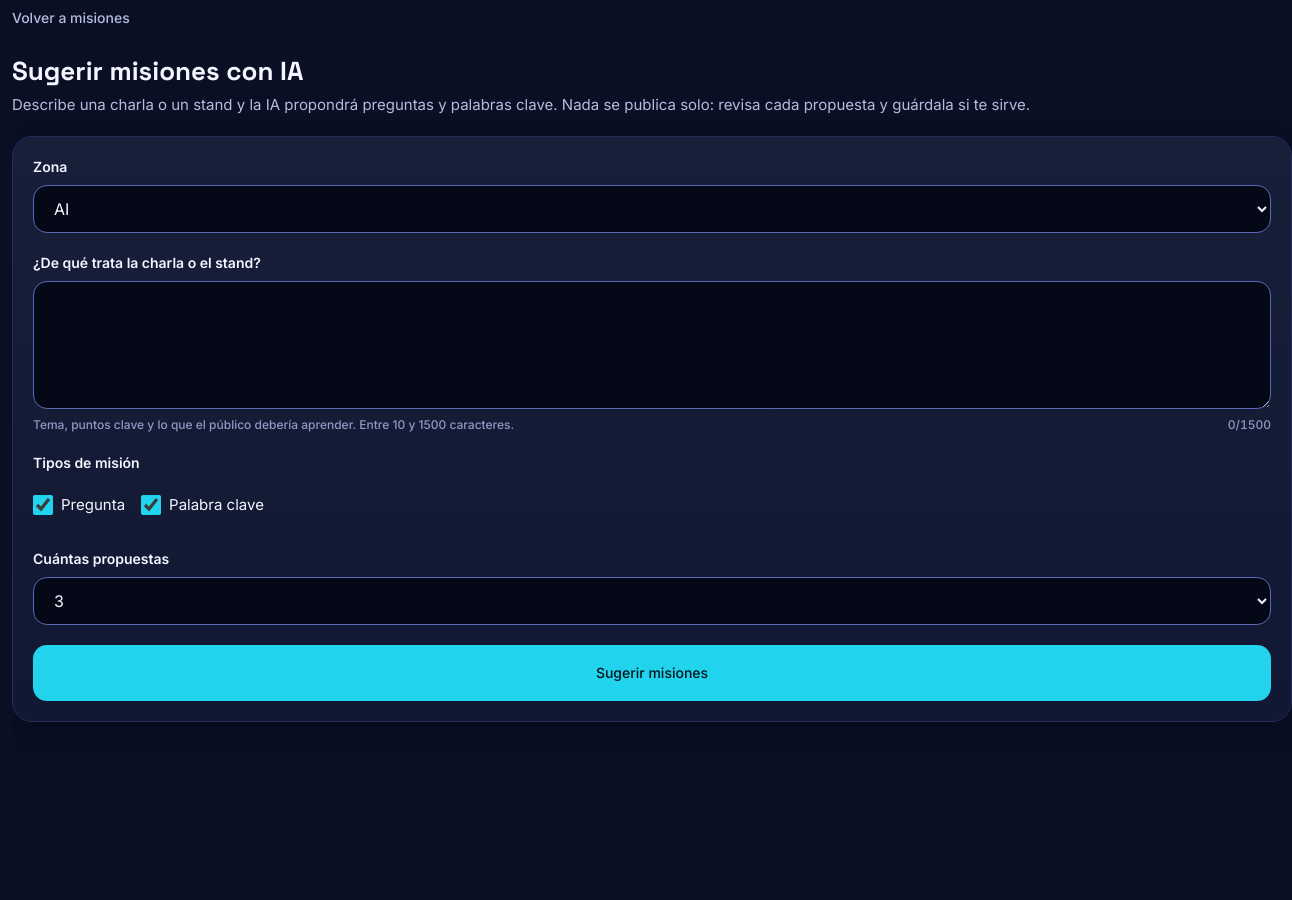
SuggestMissionsView › explains a quota answer
Type "Charla sobre Gemini y agentes" into the text box labelled "¿De qué trata la charla o el stand?".
click(652, 345); type("Charla sobre Gemini y agentes")  # box [33,281,1271,409]
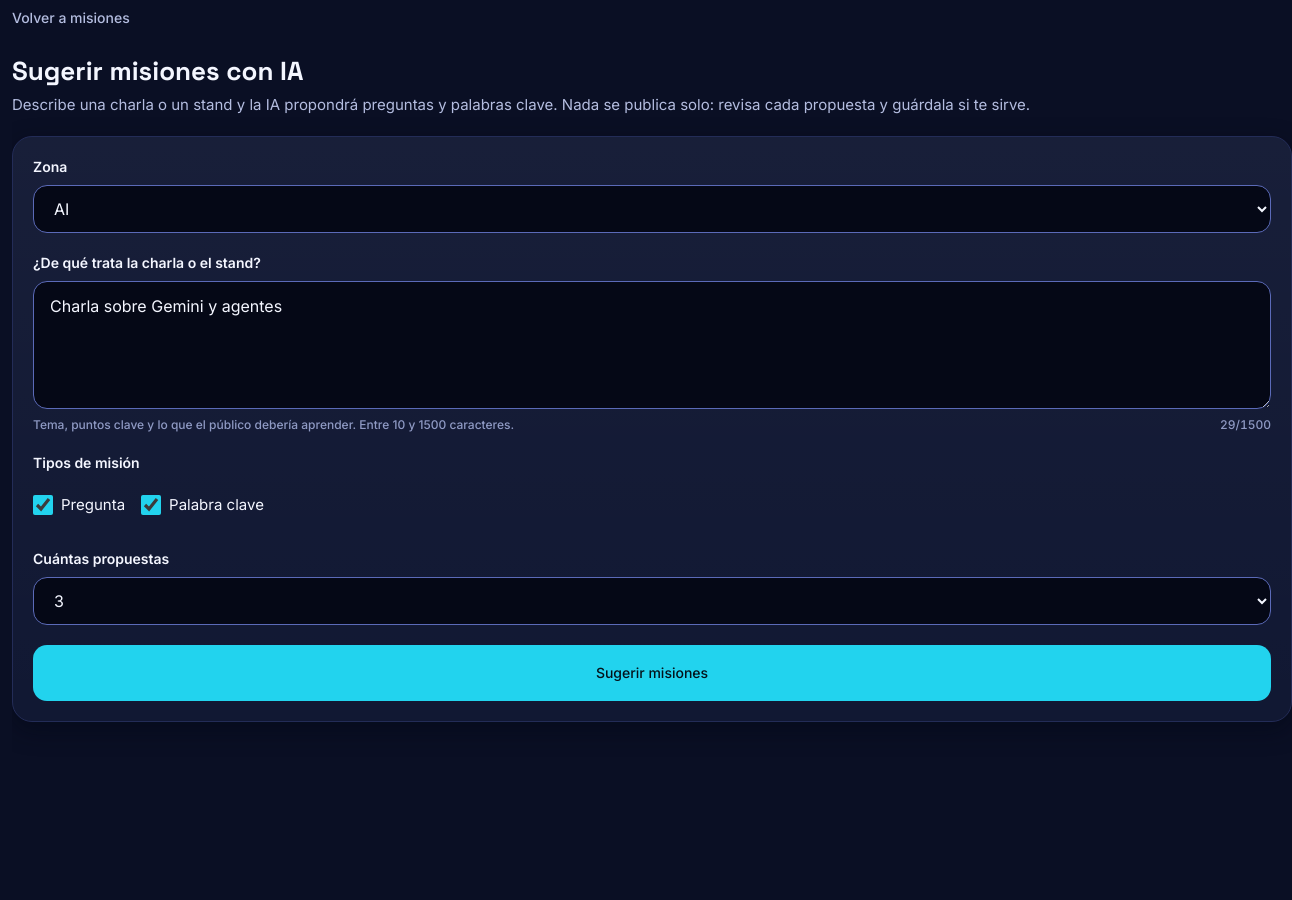
Click the button "Sugerir misiones".
click(652, 673)  # box [33,645,1271,701]
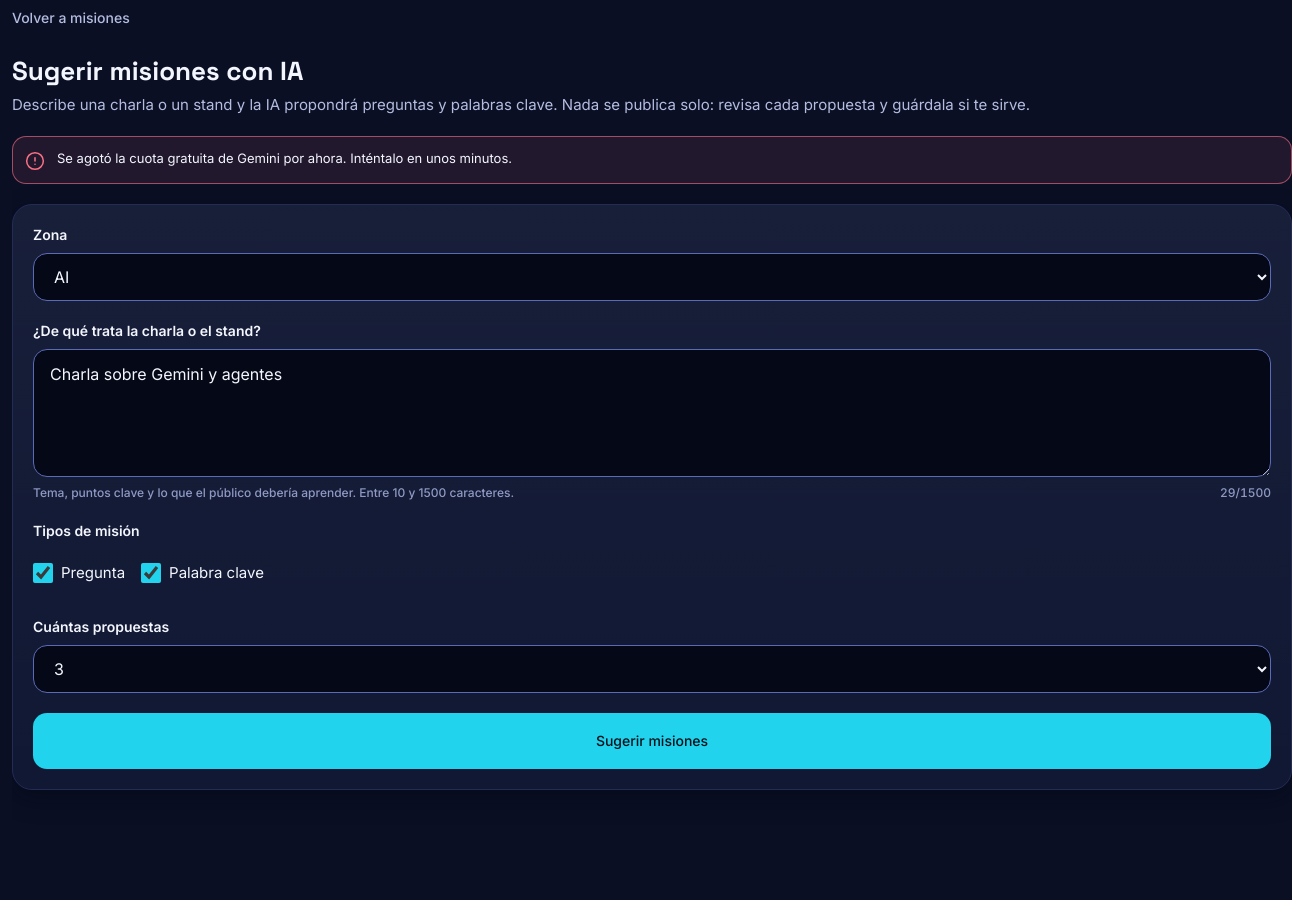
Check: the message reads "Se agotó la cuota gratuita de Gemini por ahora. Inténtalo en unos minutos.", box [57,150,512,166]
